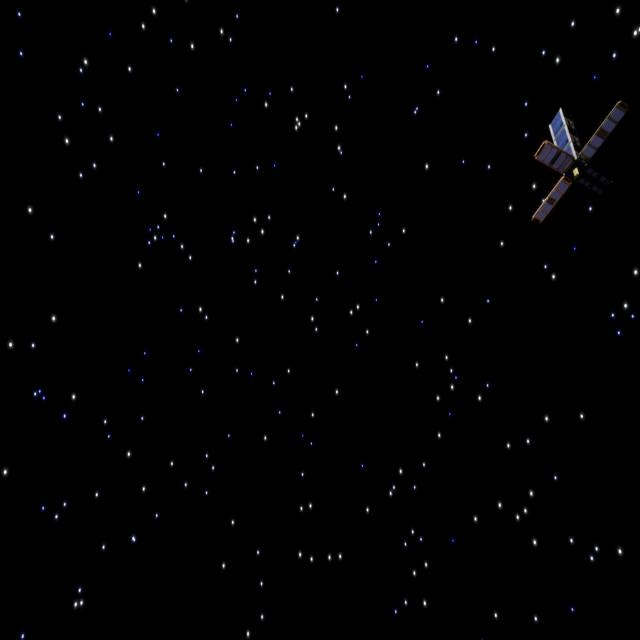medium_debris: (514, 89, 629, 229)
